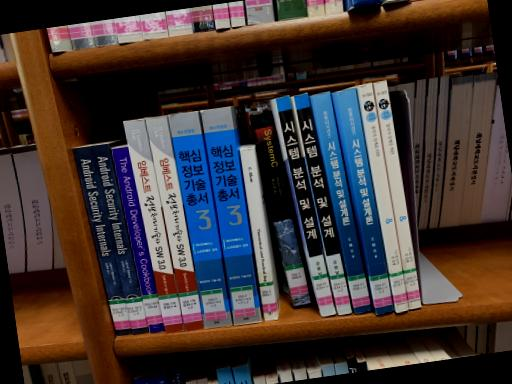book-spine: (310, 91, 372, 314), (275, 95, 336, 317), (169, 111, 231, 328), (201, 106, 261, 325), (124, 118, 185, 333), (337, 87, 394, 315), (294, 93, 352, 315), (146, 115, 204, 332), (251, 110, 313, 308), (358, 83, 409, 313), (73, 145, 132, 335), (374, 79, 422, 309), (92, 143, 147, 335), (112, 147, 165, 333), (240, 148, 277, 320)
